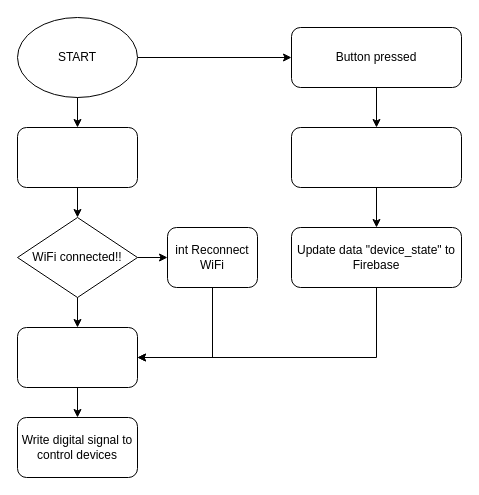
This 479x495 diagram has some shape labels left out. The box of each missing label's shape, as (x1, y1, x2, y2) in pixels:
device_state=! device_state: (290, 126, 462, 188)
Get data from Firebase: (16, 326, 138, 388)
Int WìFi & Firebase: (16, 126, 138, 188)
